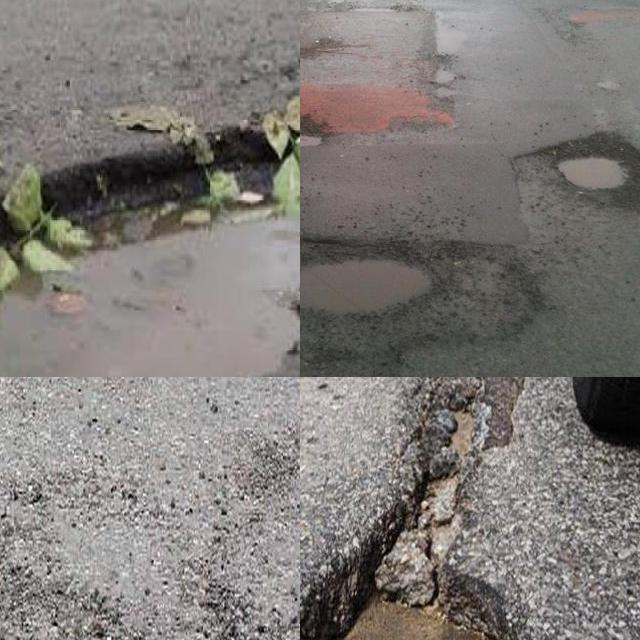Lubang: (0, 138, 300, 377), (300, 377, 521, 640), (300, 240, 544, 360), (541, 144, 640, 200), (300, 118, 325, 149)
